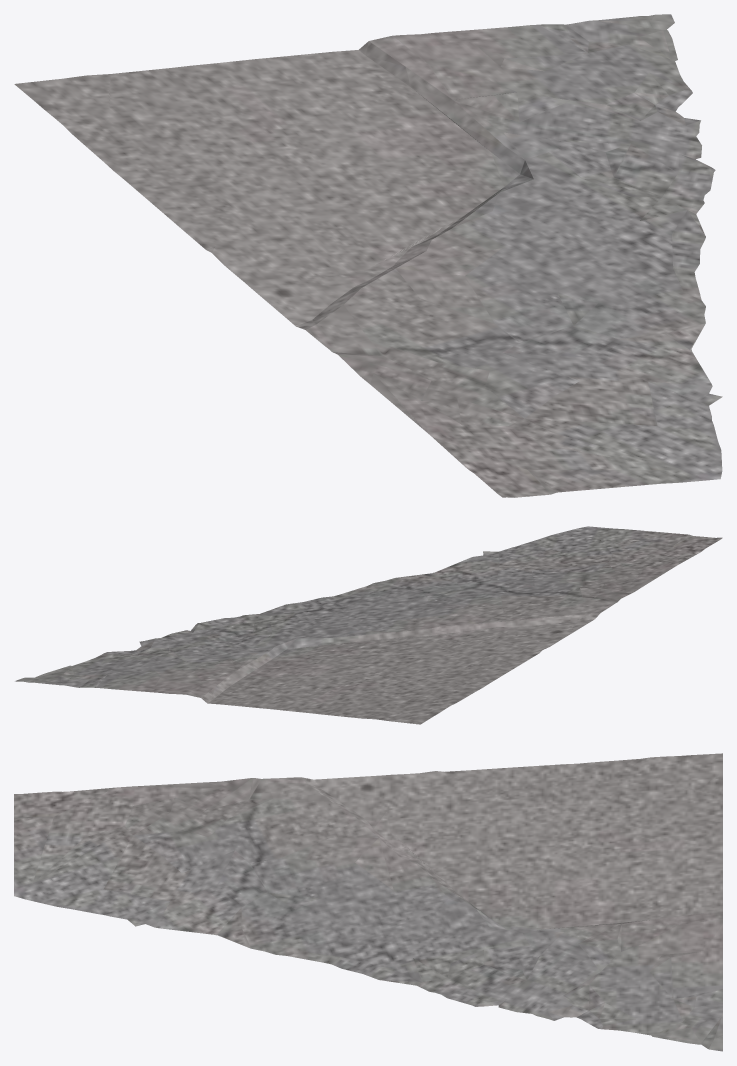
The picture shows the model from 3 angles, top to bottom: view 1: azimuth 30°, elevation 25°; view 2: azimuth 150°, elevation 25°; view 3: azimuth 270°, elevation 25°; orthographic projection. The views are drawn at different scales.
Size of the model in its own units: 1.3 by 0.171 by 1.67.
1 material, 1 textured.
